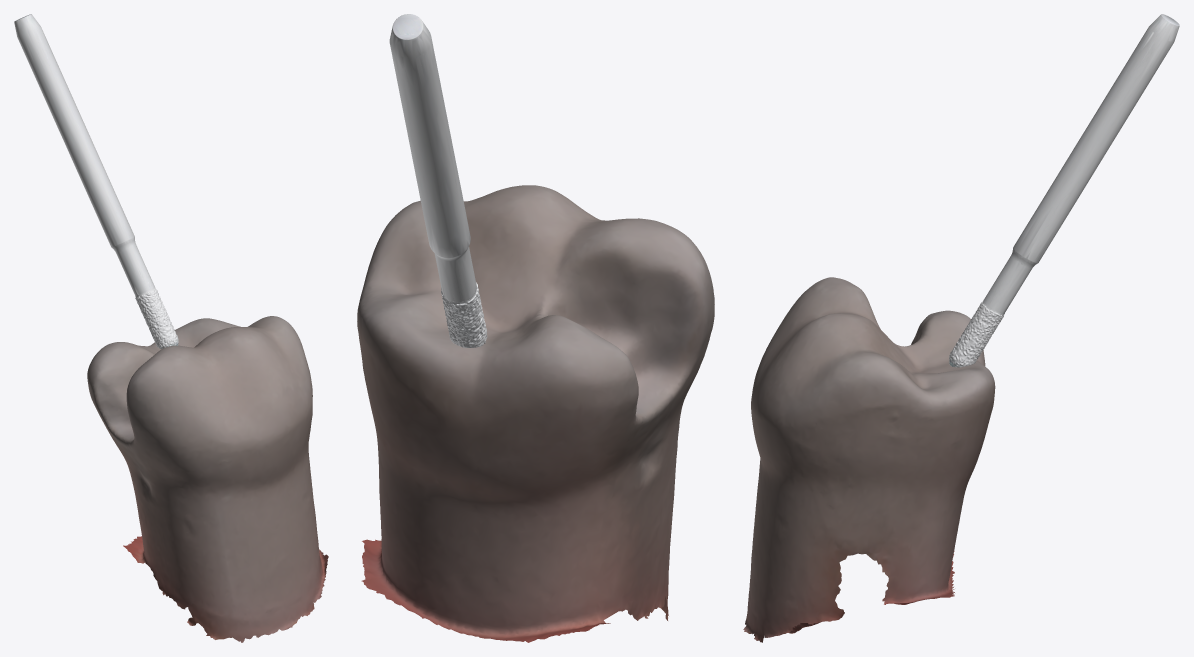
File: 2133_onlay_5.fbx
3 renders of one model, left to right at view 1: azimuth 30°, elevation 25°; view 2: azimuth 150°, elevation 25°; view 3: azimuth 270°, elevation 25°, orthographic. The views are drawn at different scales.
Visible parts, largest first — view 1: PIEZA 36 SOLA, Mesh_0, Mesh_0.001; view 2: PIEZA 36 SOLA, Mesh_0, Mesh_0.001; view 3: PIEZA 36 SOLA, Mesh_0, Mesh_0.001.
Boxes of the visible parts, x1,y1,x2,y2 form: PIEZA 36 SOLA: (87,316,328,642); Mesh_0: (14,14,154,295); Mesh_0.001: (135,287,178,348); PIEZA 36 SOLA: (357,185,714,642); Mesh_0: (389,14,476,302); Mesh_0.001: (441,282,487,347); PIEZA 36 SOLA: (743,277,995,642); Mesh_0: (983,14,1179,313); Mesh_0.001: (949,301,1004,367).
Bounding box in the file's own units: 111 × 289 × 198.
Materials: 2 (1 with a texture image).
